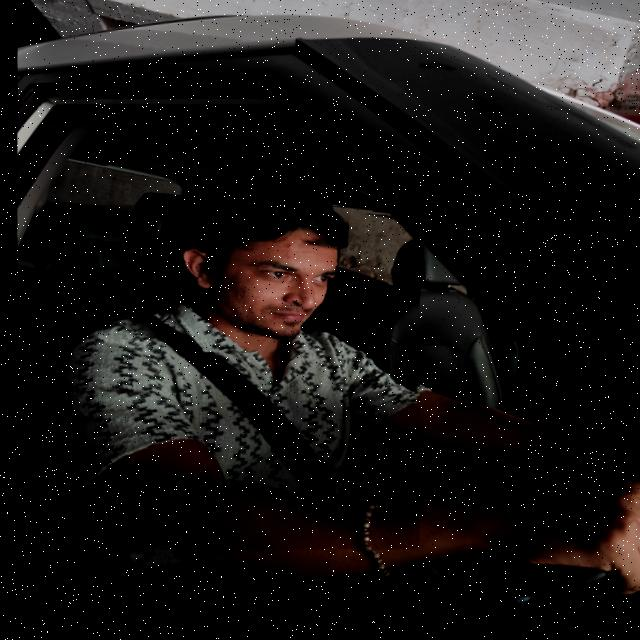seatbelt: (13, 187, 431, 571)
